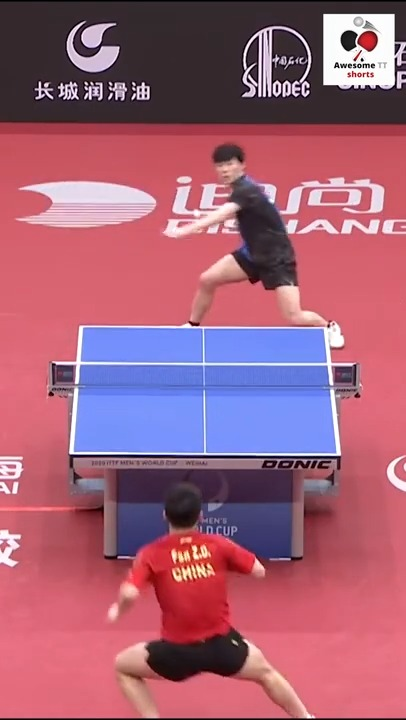Ball: (191, 207, 201, 214)
